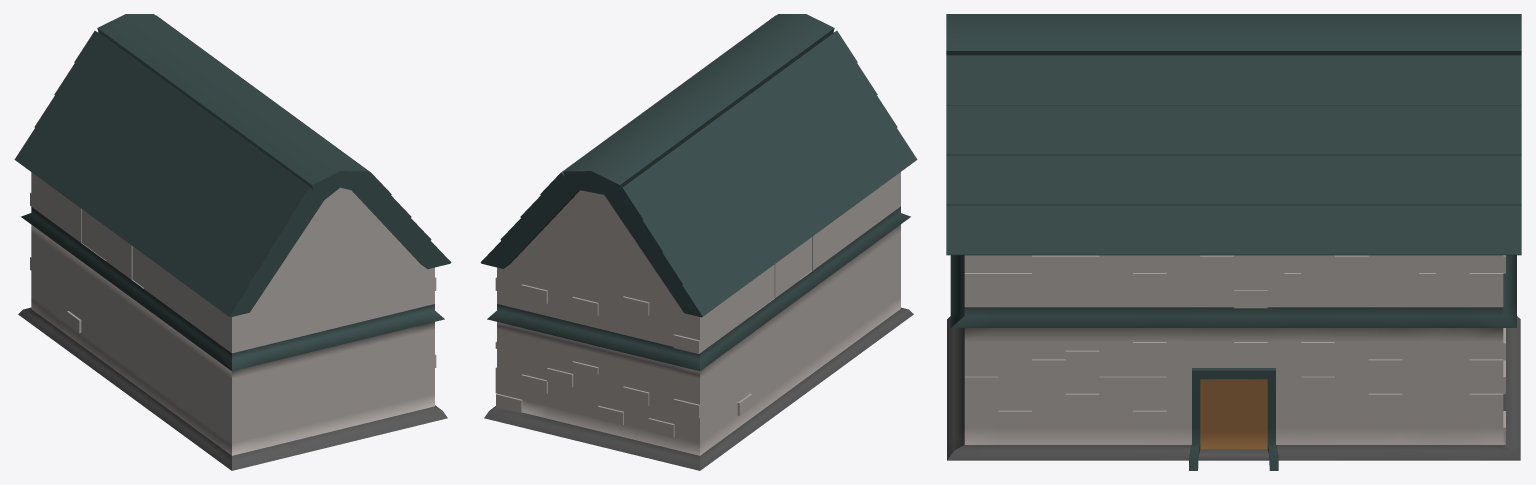
The model's file is House.fbx.
3 views of the same model, side by side, from view 1: azimuth 30°, elevation 25°; view 2: azimuth 150°, elevation 25°; view 3: azimuth 270°, elevation 25° (orthographic). The views are drawn at different scales.
Visible parts, largest first — view 1: pCube2, pCube1; view 2: pCube2, pCube1; view 3: pCube2, pCube1.
Part boxes in pixels (x1,y1,x2,y2): pCube2: (14,14,451,317); pCube1: (18,172,447,470); pCube2: (480,14,917,317); pCube1: (484,172,913,470); pCube2: (946,14,1521,255); pCube1: (947,255,1520,470).
Size of the model in its own units: 1.11 by 1.31 by 1.83.
